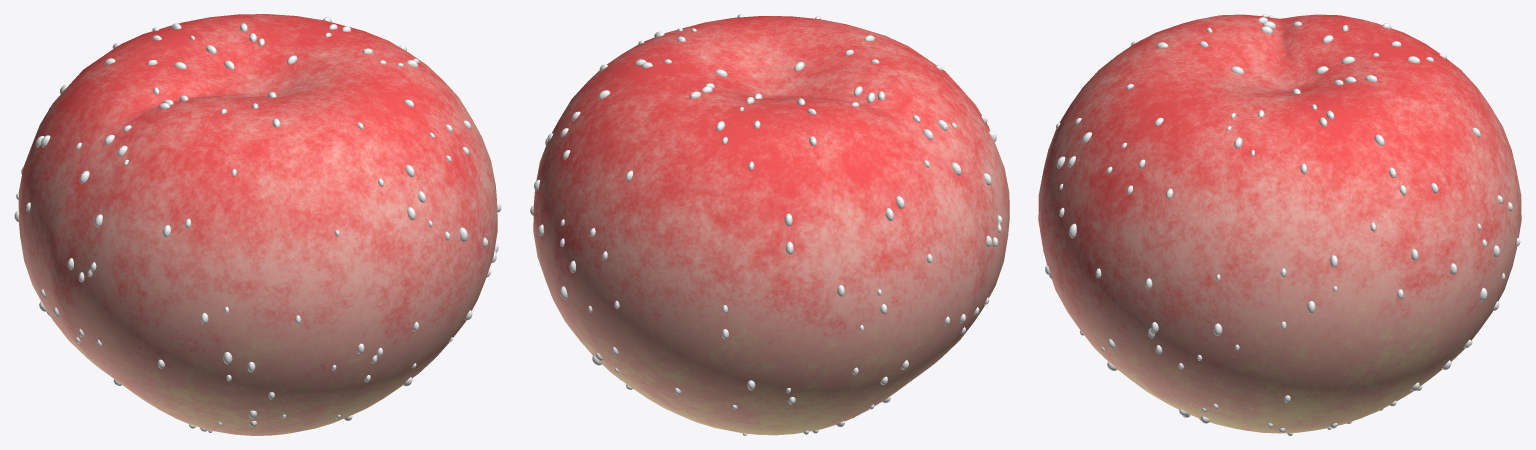
File: momo.glb
3 renders of one model, left to right at view 1: azimuth 30°, elevation 25°; view 2: azimuth 150°, elevation 25°; view 3: azimuth 270°, elevation 25°, orthographic.
Parts seen in each view (by area): view 1: taozi, 融球.001; view 2: taozi, 融球.001; view 3: taozi, 融球.001.
Boxes of the visible parts, box(x1,y1,x2,y2) form: taozi: box(18, 14, 497, 435); 融球.001: box(14, 17, 501, 432); taozi: box(533, 16, 1009, 435); 融球.001: box(530, 14, 1002, 435); taozi: box(1038, 14, 1521, 433); 融球.001: box(1043, 14, 1520, 435).
Bounding box in the file's own units: 1.89 × 1.53 × 1.89.
Materials: 2 (1 with a texture image).
